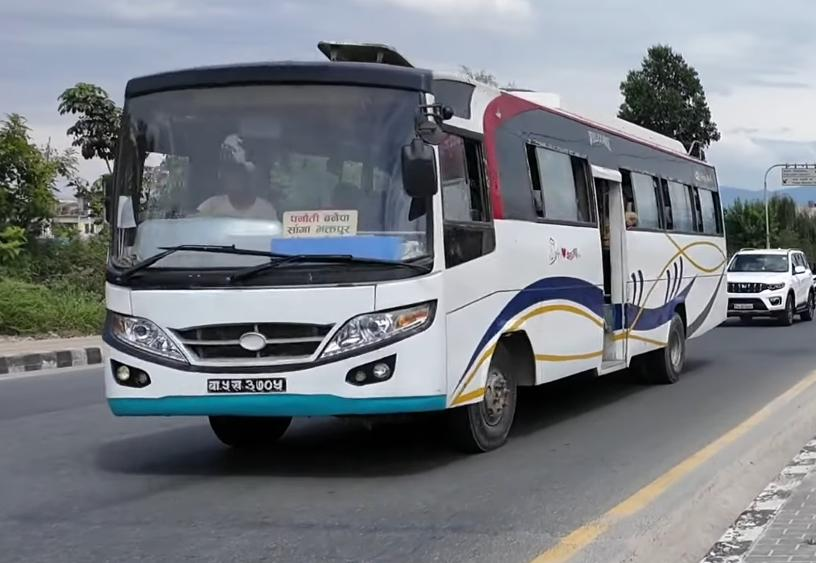bus: (61, 39, 734, 454)
